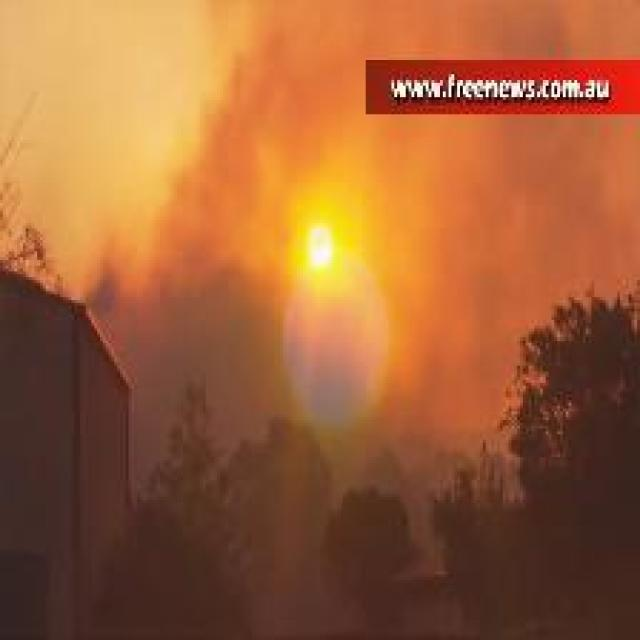other: (273, 189, 365, 304)
